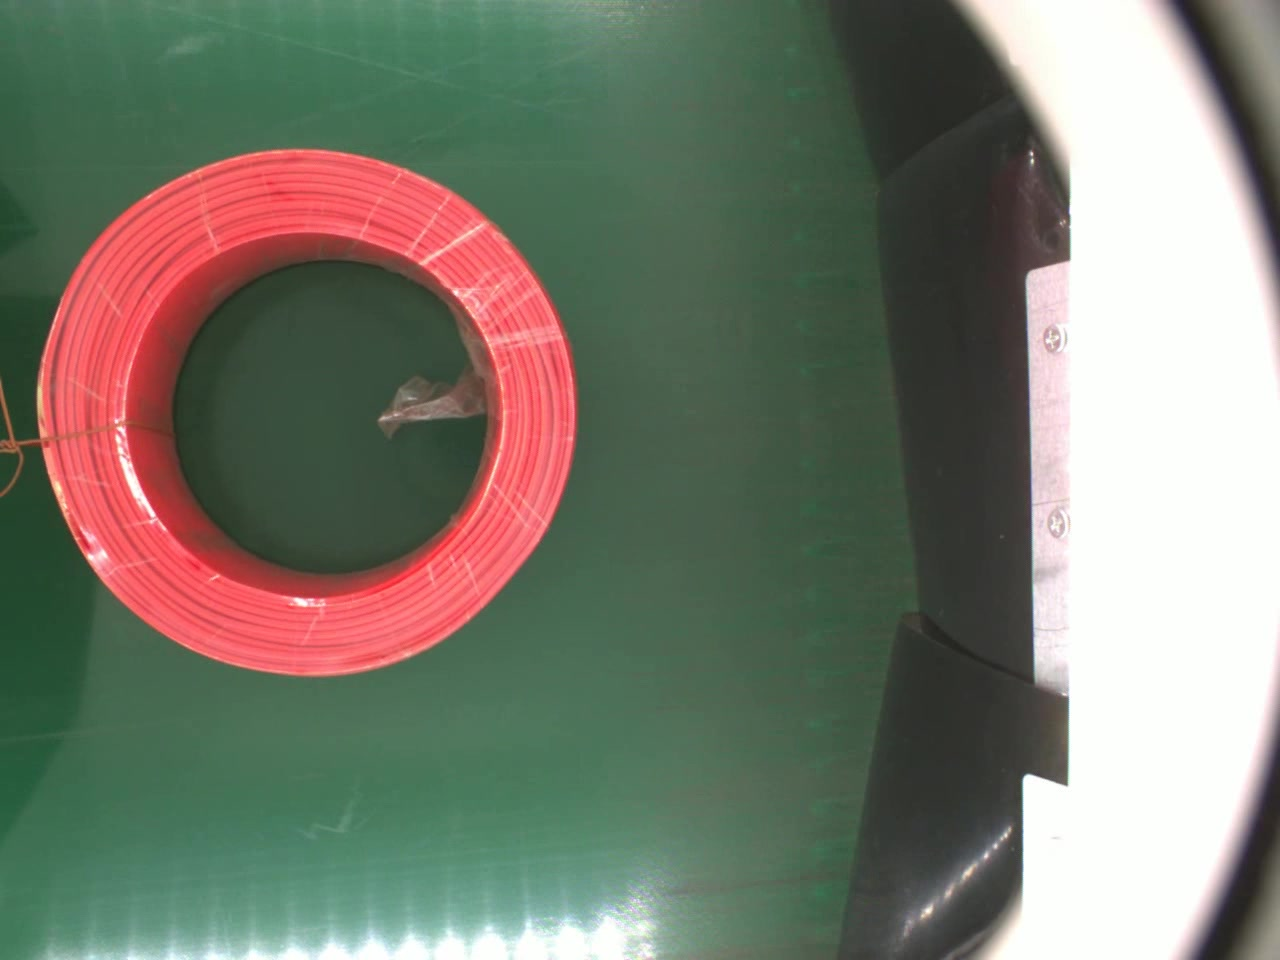red: (31, 140, 580, 681)
